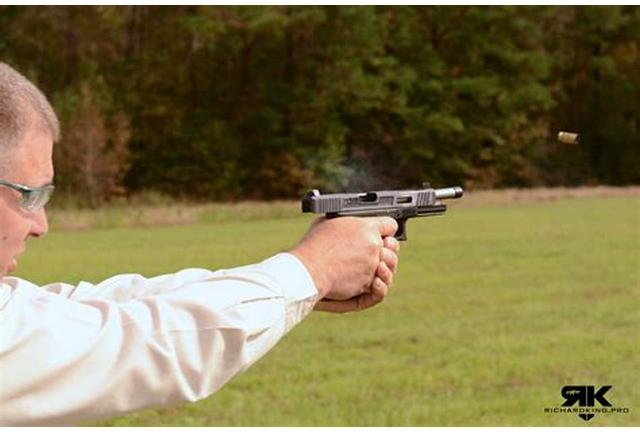handgun: (294, 178, 470, 300)
